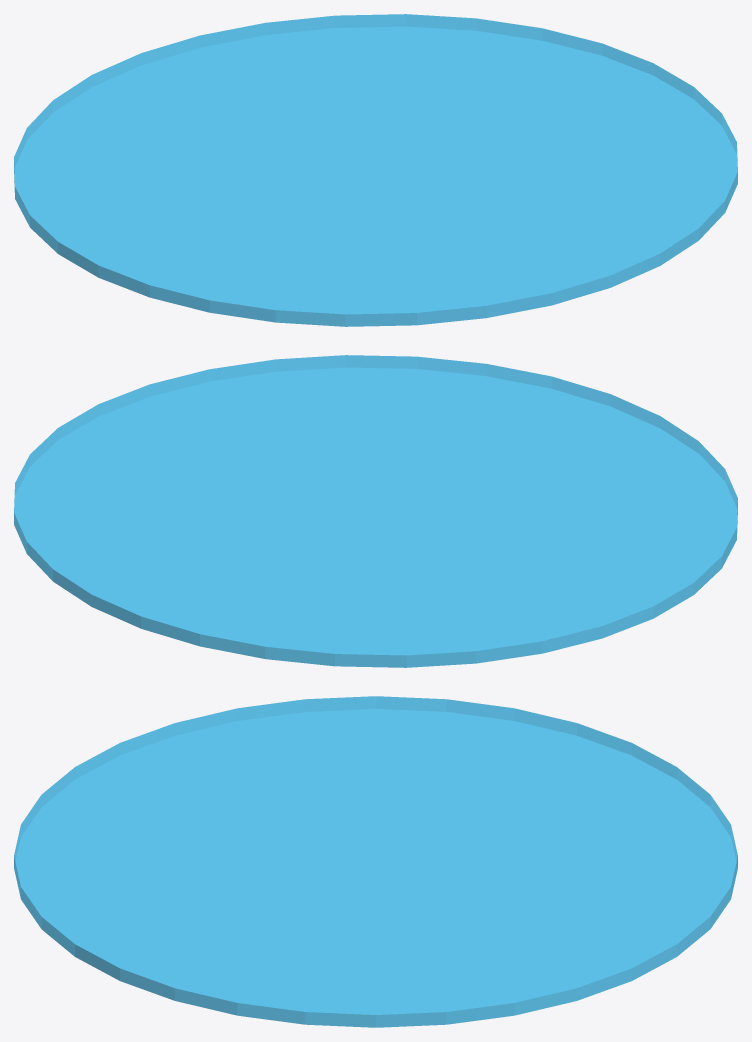
The model's file is mapa.fbx.
The picture shows the model from 3 angles, top to bottom: view 1: azimuth 30°, elevation 25°; view 2: azimuth 150°, elevation 25°; view 3: azimuth 270°, elevation 25°; orthographic projection. The views are drawn at different scales.
Visible parts, largest first — view 1: Cylinder; view 2: Cylinder; view 3: Cylinder.
Part boxes in pixels (<box>): Cylinder: <box>14,14,737,326</box>; Cylinder: <box>14,355,737,667</box>; Cylinder: <box>14,696,737,1027</box>.
Size of what is drawn, in the model's own units: 4757 by 88.46 by 4564.
